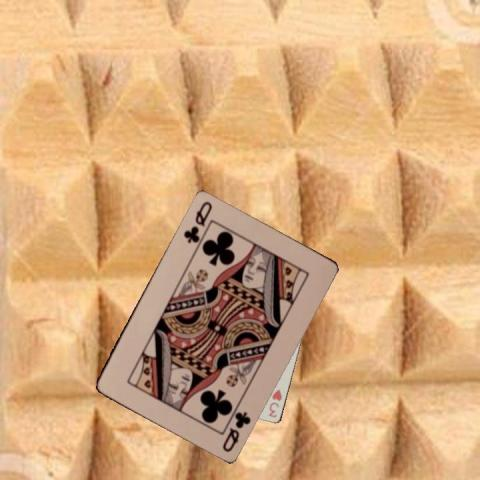3h: (266, 386, 284, 419)
Qc: (180, 198, 213, 245), (219, 408, 252, 453)
